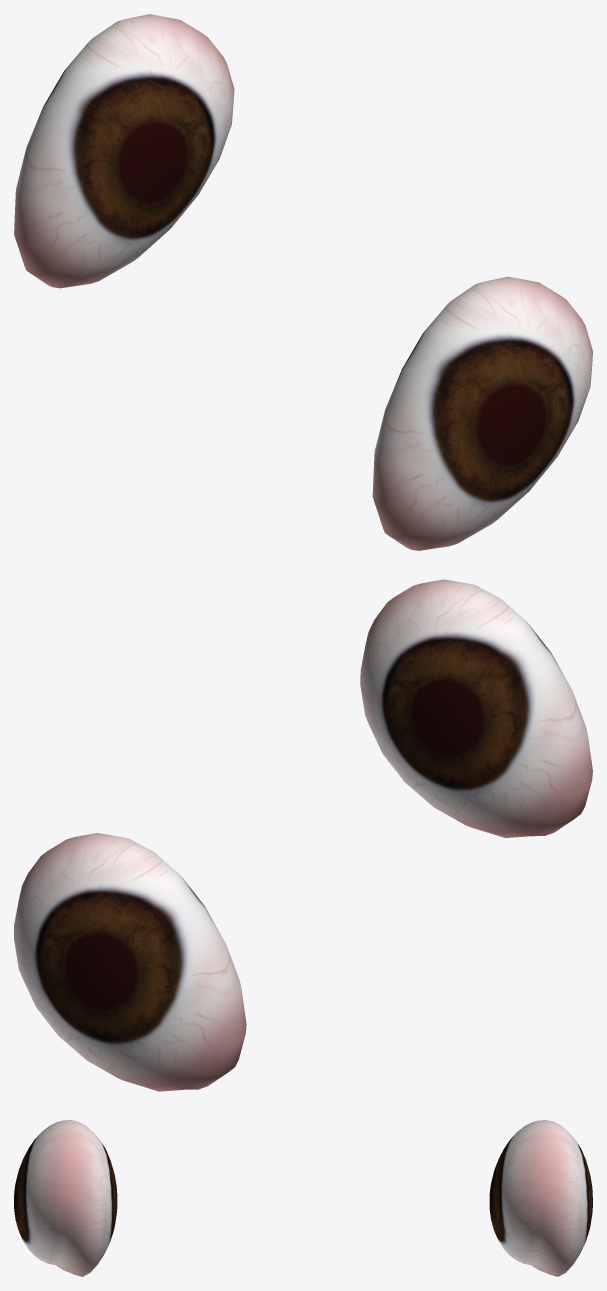
Rendered from Eyes.fbx.
The picture shows the model from 3 angles, top to bottom: view 1: azimuth 30°, elevation 25°; view 2: azimuth 150°, elevation 25°; view 3: azimuth 270°, elevation 25°; orthographic projection. The views are drawn at different scales.
Visible parts, largest first — view 1: pSphere1, pSphere2; view 2: pSphere2, pSphere1; view 3: pSphere1, pSphere2.
Part boxes in pixels (left/top/right/bottom): pSphere1: left=372, top=276, right=592, bottom=550; pSphere2: left=14, top=14, right=234, bottom=288; pSphere2: left=14, top=833, right=246, bottom=1091; pSphere1: left=360, top=579, right=592, bottom=837; pSphere1: left=14, top=1120, right=117, bottom=1276; pSphere2: left=489, top=1120, right=592, bottom=1276.
Bounding box in the file's own units: 1.22 × 1.31 × 4.28.
